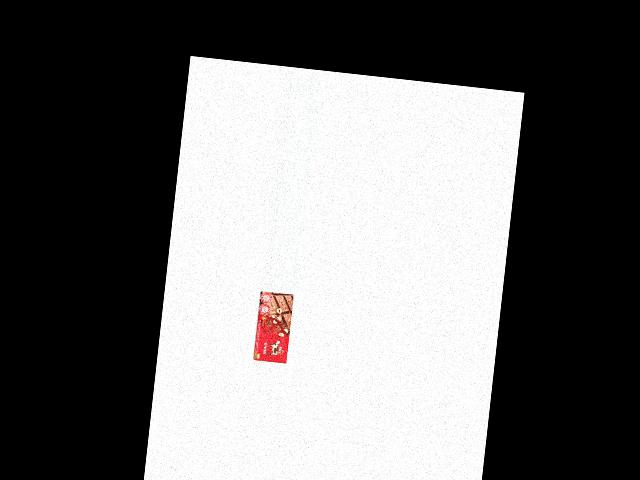chocolate: (252, 290, 294, 364)
